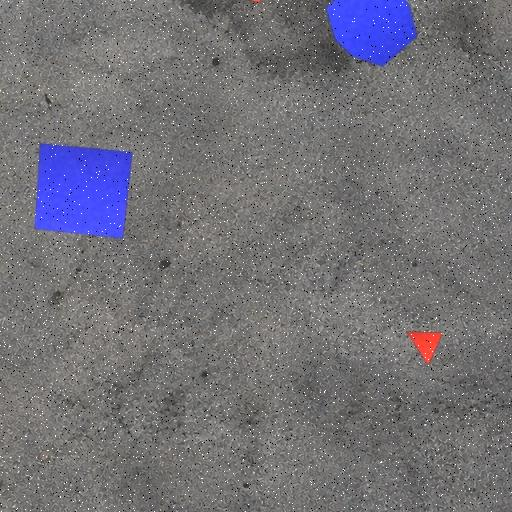BLUE_SQUARE: (34, 143, 134, 239)
